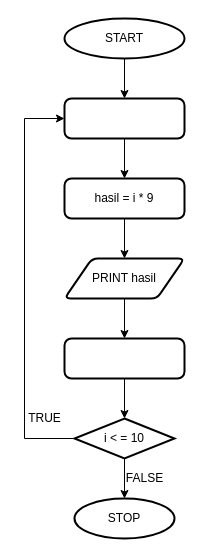
This 203x556 diagram has some shape labels left out. The centre of each missing label's shape, as x and y in pixels:
"DECLARE int i = 0 int hasil" belongs at [124,118].
"i ++" belongs at [124,358].
